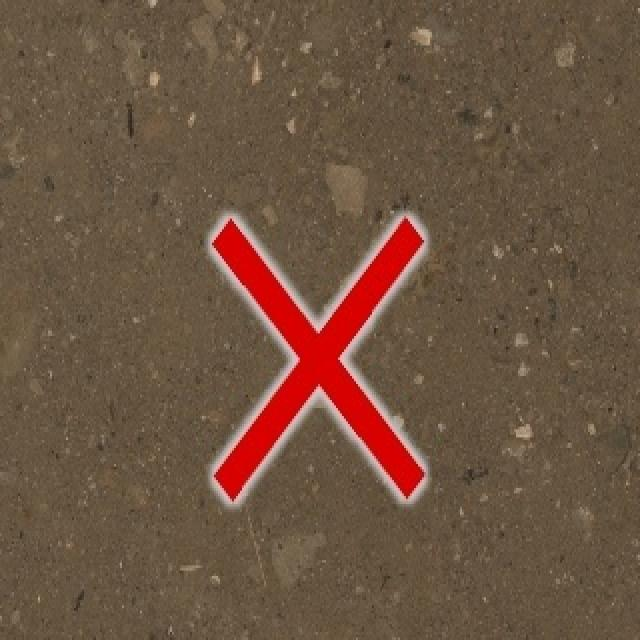x_marker: (211, 217, 423, 500)
